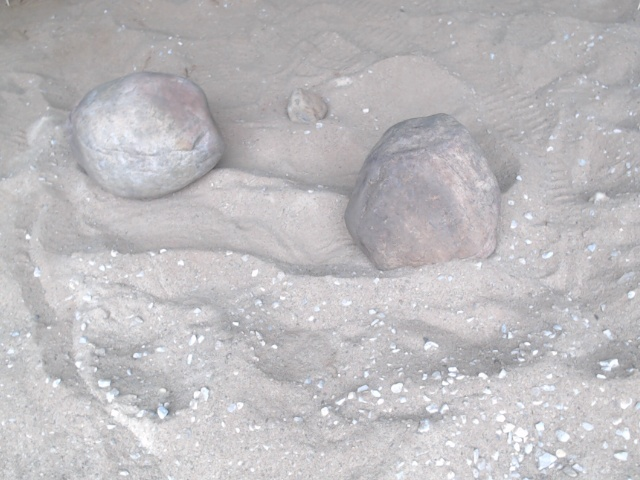rock: (338, 107, 507, 277), (66, 65, 232, 205), (282, 84, 332, 129)
